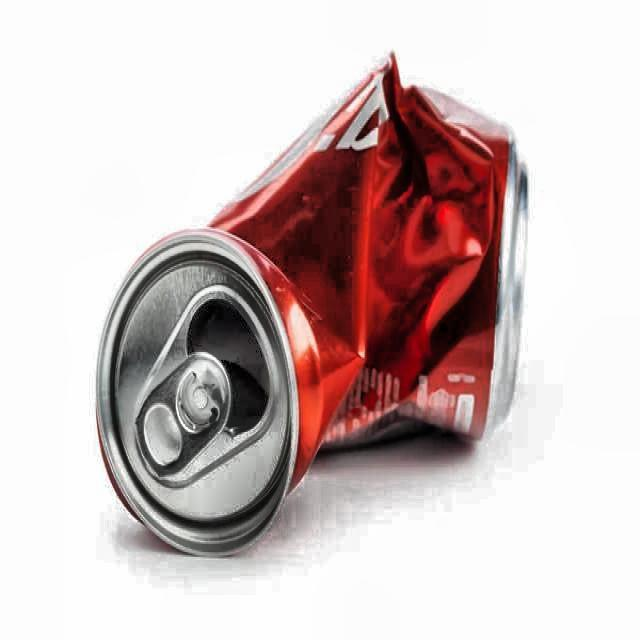metal: (93, 53, 533, 559)
